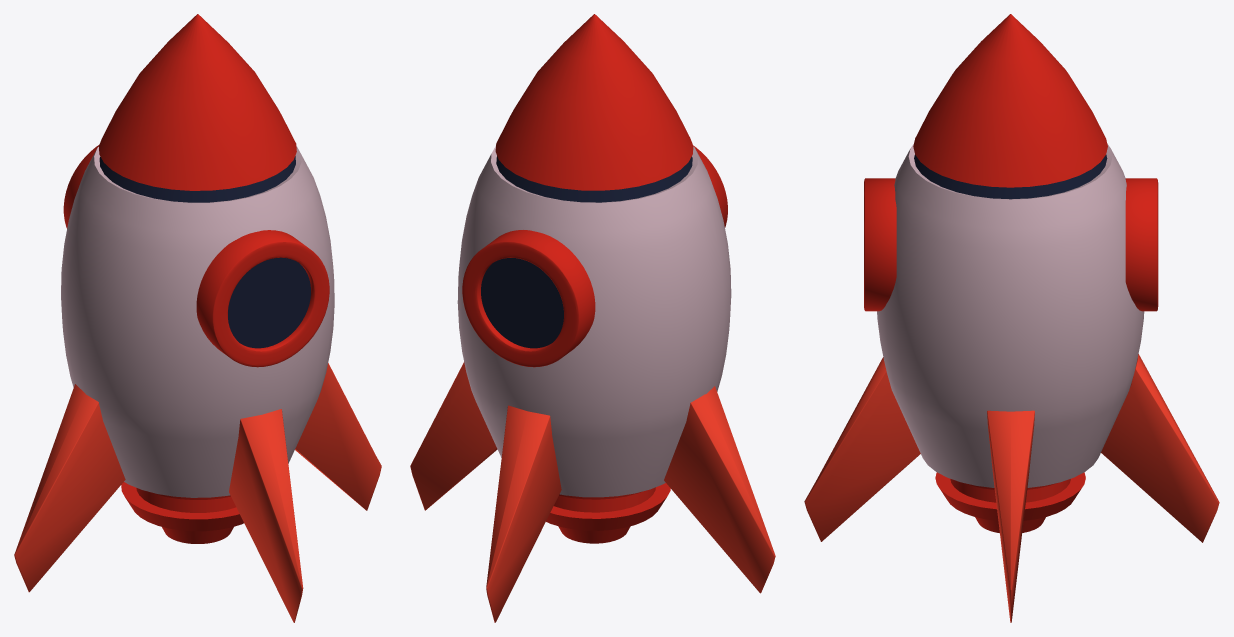
File: rocket.obj
3 renders of one model, left to right at view 1: azimuth 30°, elevation 25°; view 2: azimuth 150°, elevation 25°; view 3: azimuth 270°, elevation 25°, orthographic.
Visible parts, largest first — view 1: Cylinder, Cylinder.004_Cylinder.005, Cylinder.002, Cylinder.003; view 2: Cylinder, Cylinder.004_Cylinder.005, Cylinder.002, Cylinder.003; view 3: Cylinder, Cylinder.004_Cylinder.005, Cylinder.002, Cylinder.003.
Boxes of the visible parts, x1=… form: Cylinder: x1=61, y1=14, x2=334, y2=497; Cylinder.004_Cylinder.005: x1=14, y1=363, x2=381, y2=622; Cylinder.002: x1=63, y1=144, x2=329, y2=367; Cylinder.003: x1=121, y1=482, x2=243, y2=543; Cylinder: x1=457, y1=14, x2=731, y2=497; Cylinder.004_Cylinder.005: x1=410, y1=362, x2=775, y2=622; Cylinder.002: x1=462, y1=145, x2=727, y2=367; Cylinder.003: x1=546, y1=483, x2=670, y2=543; Cylinder: x1=877, y1=14, x2=1144, y2=487; Cylinder.004_Cylinder.005: x1=804, y1=354, x2=1219, y2=622; Cylinder.002: x1=864, y1=178, x2=1158, y2=311; Cylinder.003: x1=935, y1=472, x2=1085, y2=533.
Size of the model in its own units: 0.3941 by 0.5527 by 0.3941.
